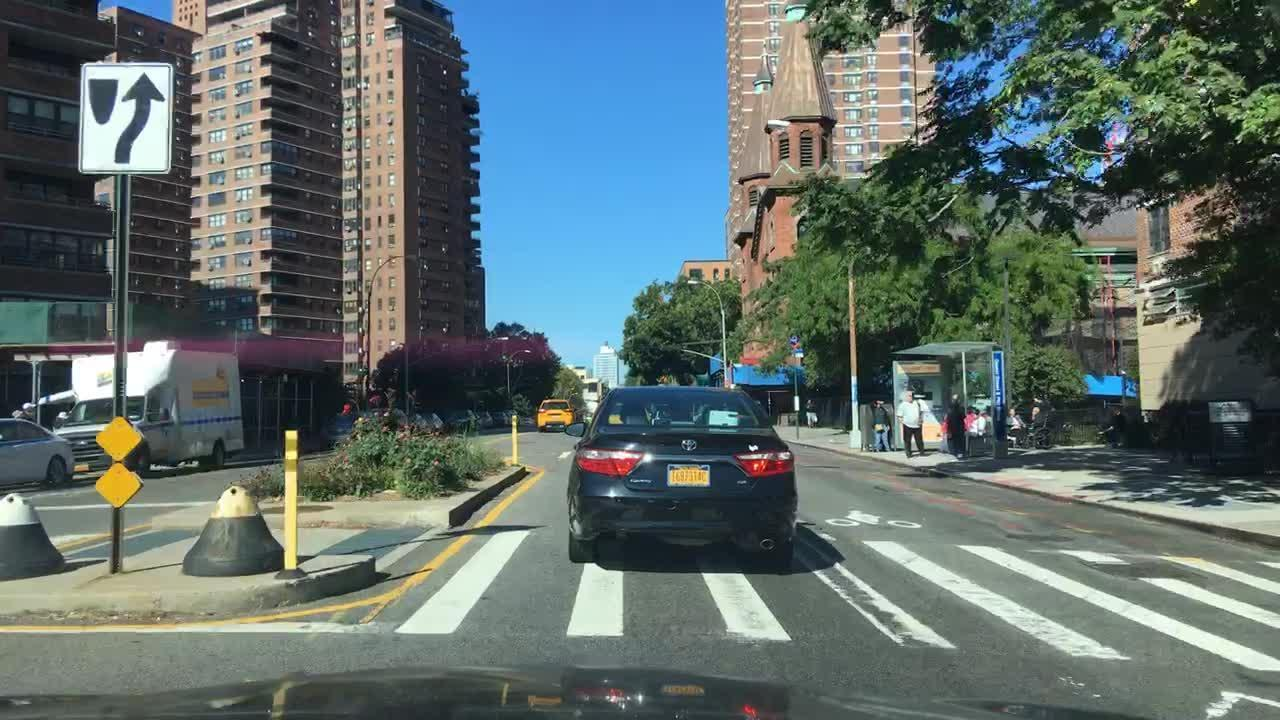Toyota: (676, 430, 708, 457)
